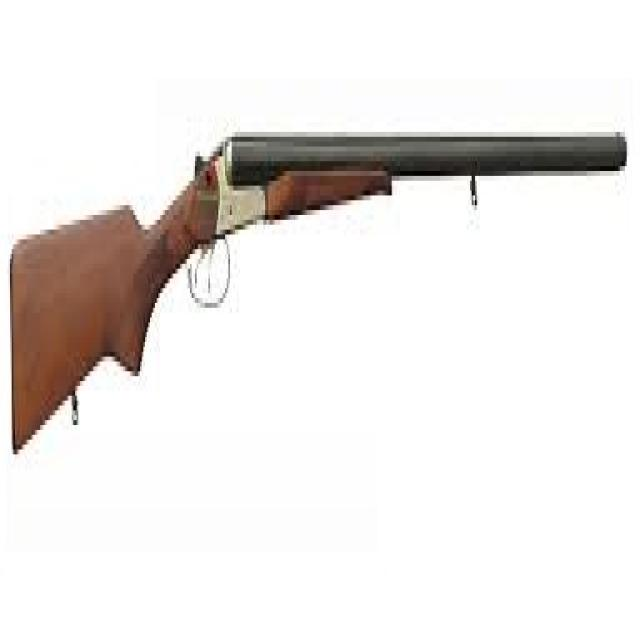rifle: (7, 126, 632, 467)
